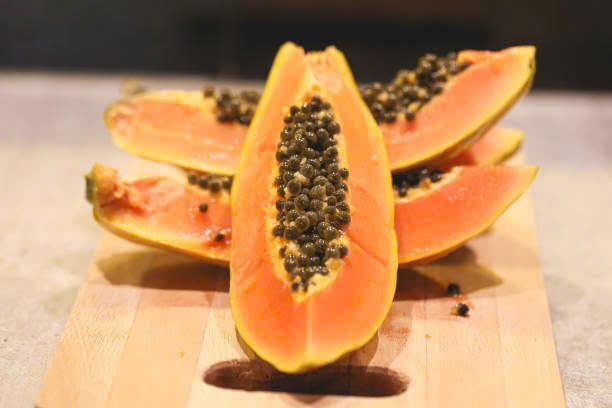papaya: (223, 40, 405, 380)
